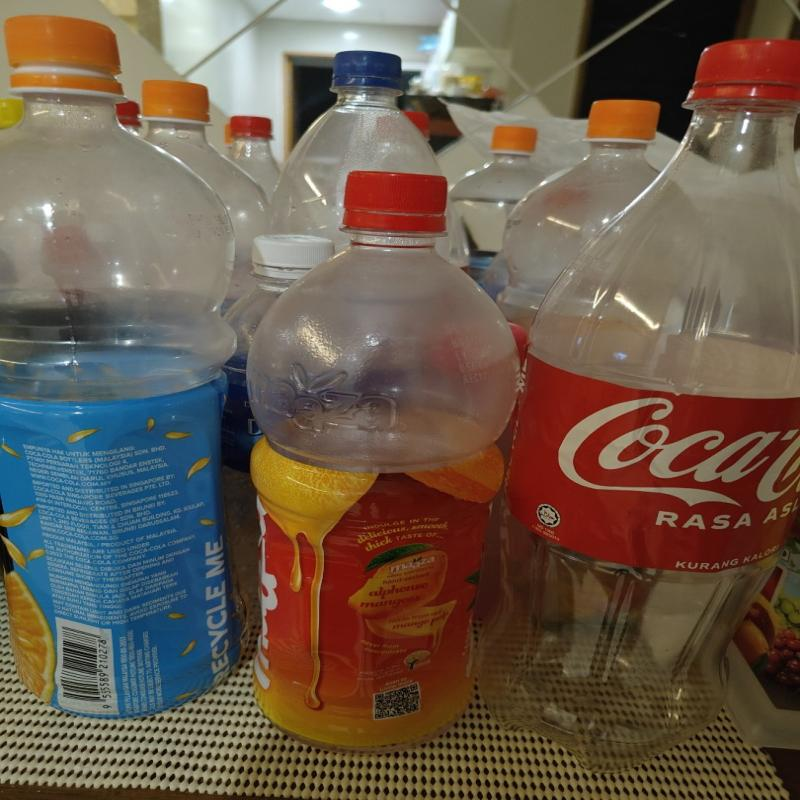botella: (505, 33, 799, 761), (0, 8, 240, 717), (245, 171, 501, 740), (268, 40, 488, 270), (515, 82, 696, 347), (130, 70, 284, 265), (449, 100, 545, 207), (198, 92, 284, 179)
